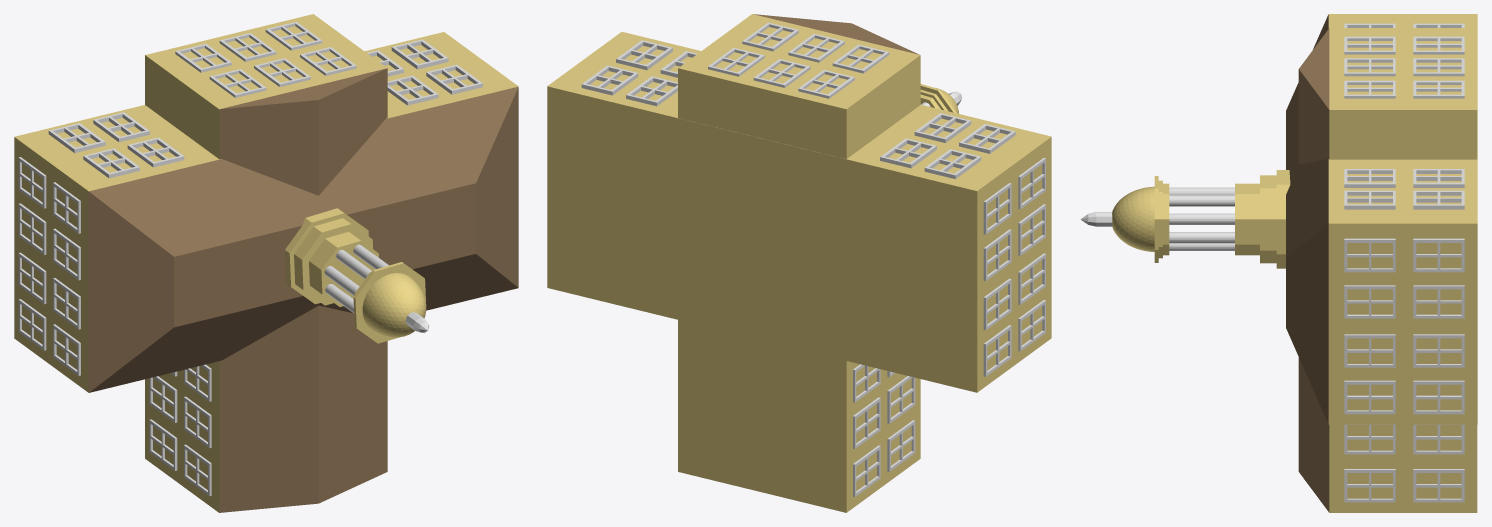
The model's file is nassau.glb.
3 renders of one model, left to right at view 1: azimuth 30°, elevation 25°; view 2: azimuth 150°, elevation 25°; view 3: azimuth 270°, elevation 25°, orthographic.
Parts seen in each view (by area): view 1: Cube.001, Cube.002, Cube.009, Cylinder.007, Cube.012, Cube.004, Cube.013, Icosphere, Cube.003, Cylinder.009, Cylinder.010; view 2: Cube.001, Cube.002, Cube.009, Cube.012, Cube.004, Cube.013, Cube.003, Cylinder.010; view 3: Cube.001, Cube.002, Cube.008, Cube.012, Cylinder.007, Cube.003, Cylinder.009, Cube.011, Icosphere, Cylinder.010, Cube.004.
Boxes of the visible parts, x1,y1,x2,y2 form: Cube.001: (14,32,518,392); Cube.002: (145,14,387,512); Cube.009: (18,157,80,375); Cylinder.007: (285,208,378,306); Cube.012: (175,21,356,97); Cube.004: (48,112,184,178); Cube.013: (149,364,211,496); Icosphere: (362,273,426,337); Cube.003: (367,39,482,105); Cylinder.009: (324,244,388,313); Cylinder.010: (353,262,425,343); Cube.001: (547,32,1051,392); Cube.002: (678,14,920,512); Cube.009: (983,158,1045,376); Cube.012: (708,22,889,98); Cube.004: (880,113,1015,178); Cube.013: (853,364,915,496); Cube.003: (581,40,697,106); Cylinder.010: (920,84,956,113); Cube.001: (1286,14,1477,424); Cube.002: (1298,28,1477,512); Cube.008: (1344,238,1464,414); Cube.012: (1344,36,1464,98); Cylinder.007: (1235,170,1290,268); Cube.003: (1344,169,1464,209); Cylinder.009: (1169,187,1234,250); Cube.011: (1344,424,1464,502); Icosphere: (1112,186,1154,251); Cylinder.010: (1154,176,1169,262); Cube.004: (1344,23,1464,27).
Size of what is drawn, in the model's own units: 0.954 by 0.8573 by 0.7569.
